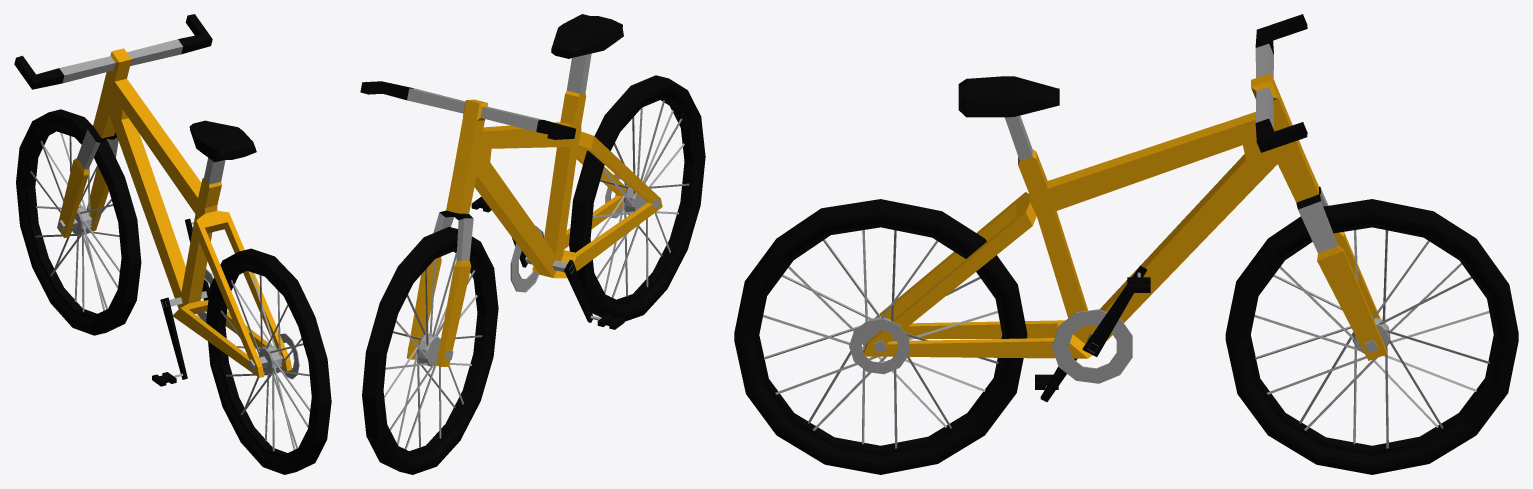
Rendered from bike_1.fbx.
3 views of the same model, side by side, from view 1: azimuth 30°, elevation 25°; view 2: azimuth 150°, elevation 25°; view 3: azimuth 270°, elevation 25° (orthographic). The views are drawn at different scales.
Visible parts, largest first — view 1: Cube.002, Cube, pedal, Circle.001; view 2: Cube.002, Cube, pedal, Circle; view 3: Cube.002, Cube, Circle, pedal, Circle.001.
Boxes of the visible parts, bbox=[...] form: Cube.002: bbox=[16, 109, 331, 474]; Cube: bbox=[14, 14, 291, 377]; pedal: bbox=[152, 218, 209, 386]; Circle.001: bbox=[280, 333, 299, 379]; Cube.002: bbox=[362, 75, 705, 474]; Cube: bbox=[360, 14, 662, 366]; pedal: bbox=[471, 196, 624, 329]; Circle: bbox=[510, 225, 543, 292]; Cube.002: bbox=[734, 199, 1518, 474]; Cube: bbox=[863, 14, 1387, 360]; Circle: bbox=[1052, 309, 1132, 383]; pedal: bbox=[1035, 265, 1150, 401]; Circle.001: bbox=[849, 318, 909, 374].
Size of the model in its own units: 1.06 by 1.75 by 3.1.
